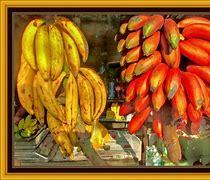banana: (112, 11, 210, 147), (17, 22, 109, 150)
